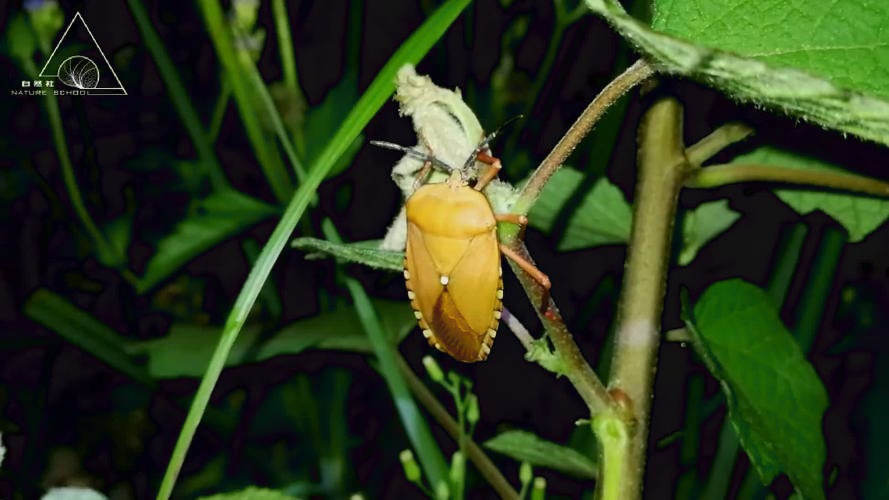Stink_Bug: (386, 145, 505, 362)
